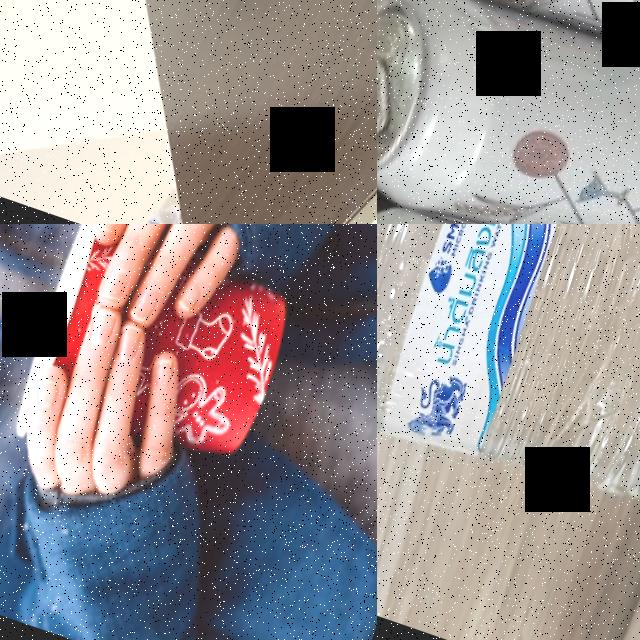bottle: (377, 224, 640, 577)
can: (377, 0, 640, 224), (377, 0, 640, 119), (377, 135, 640, 224)
cup: (5, 224, 315, 510)
